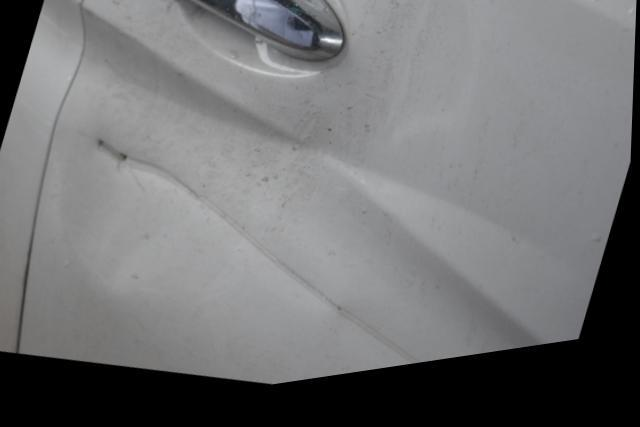dent: (61, 1, 475, 284)
